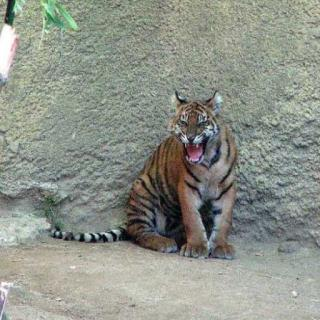Tiger: (53, 84, 262, 278)
